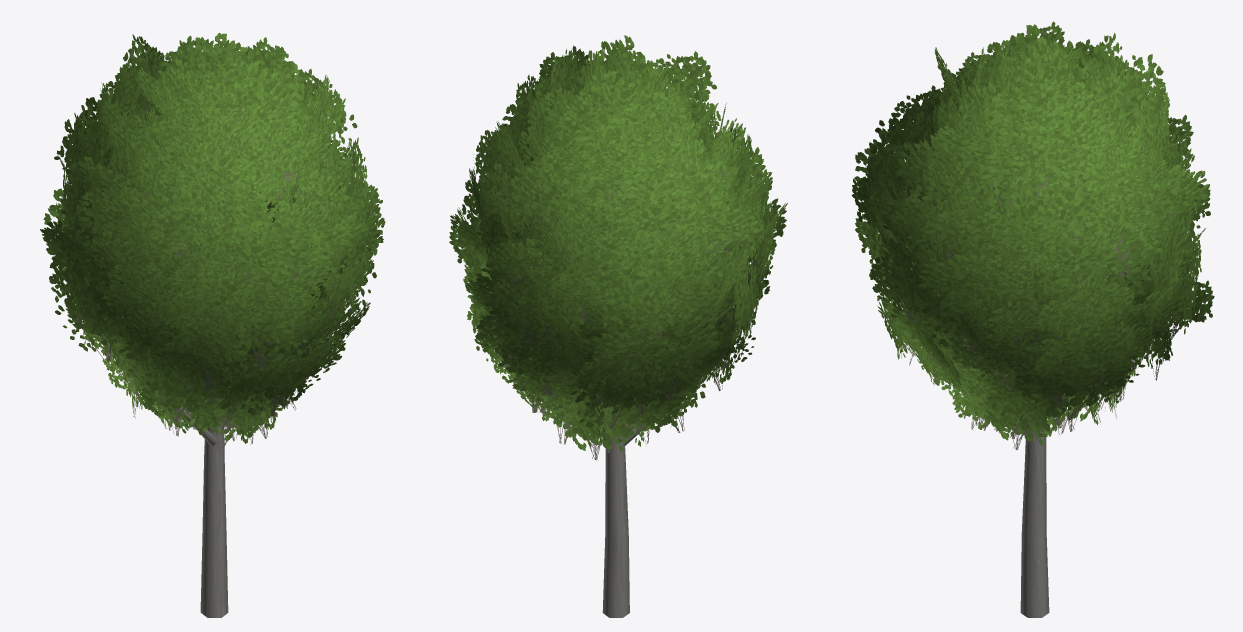
Rendered from trad_bok_c.glb.
3 views of the same model, side by side, from view 1: azimuth 30°, elevation 25°; view 2: azimuth 150°, elevation 25°; view 3: azimuth 270°, elevation 25° (orthographic). The views are drawn at different scales.
Parts seen in each view (by area): view 1: trad_bok_c; view 2: trad_bok_c; view 3: trad_bok_c.
Boxes of the visible parts, x1,y1,x2,y2 form: trad_bok_c: (40, 32, 385, 617); trad_bok_c: (449, 35, 787, 617); trad_bok_c: (851, 21, 1214, 617).
Size of the model in its own units: 11 by 18 by 11.
1 material, 1 textured.
